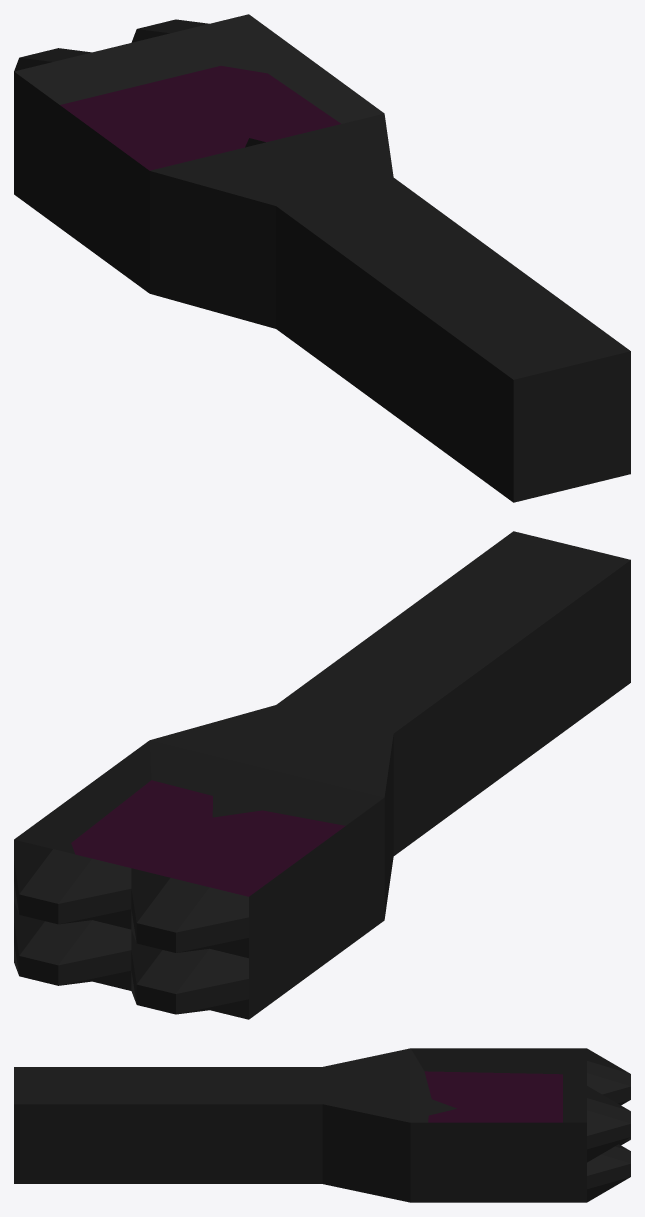
File: flashlight.obj
3 views of the same model, one above another, from view 1: azimuth 30°, elevation 25°; view 2: azimuth 150°, elevation 25°; view 3: azimuth 270°, elevation 25° (orthographic). The views are drawn at different scales.
Parts seen in each view (by area): view 1: Cube; view 2: Cube; view 3: Cube.
Part boxes in pixels (<box>): Cube: <box>14,14,630,502</box>; Cube: <box>14,531,630,1019</box>; Cube: <box>14,1048,630,1202</box>.
Bounding box in the file's own units: 0.4 × 0.2 × 1.4.
